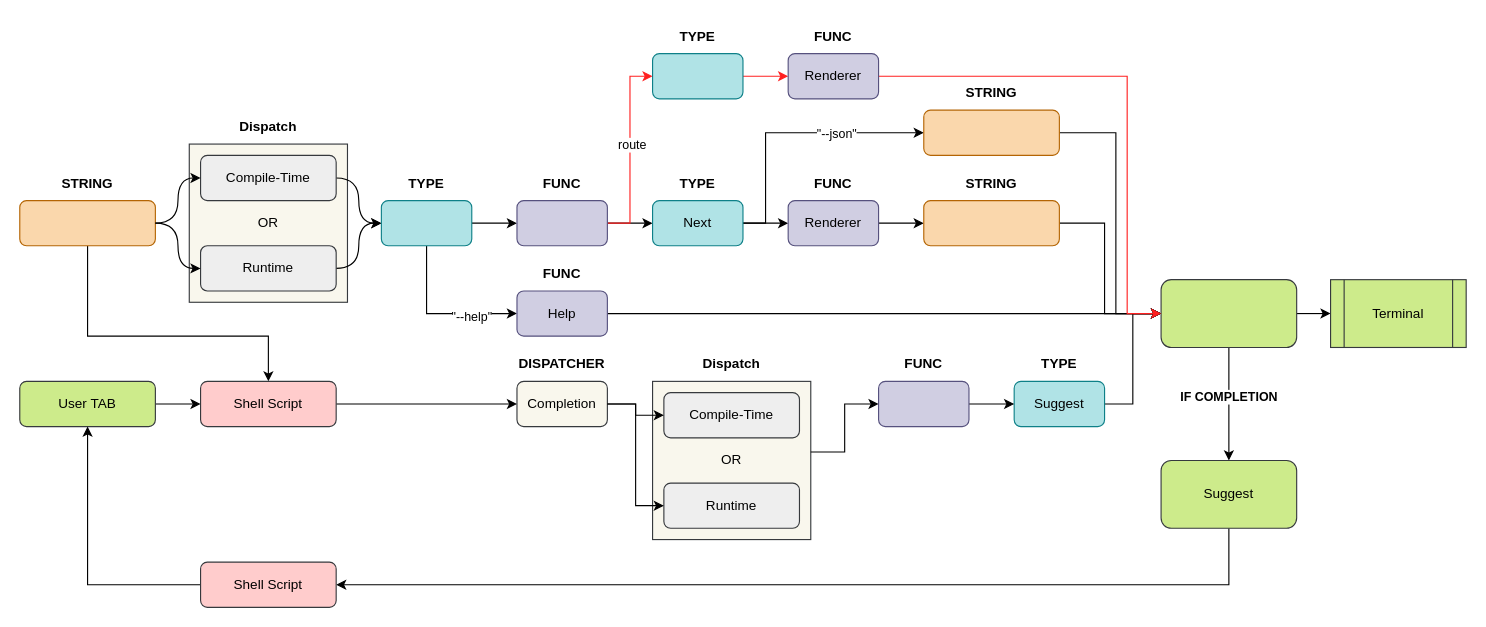
The diagram is 1486 pixels wide and 627 high, and some of its shapes have lost their labels. The shapes that lost their labels are listed below. From the top down, each one's box as (x1, y1, x2, y2) in pixels, then its label:
(651, 53, 743, 99): Error
(923, 109, 1059, 155): JSON
(19, 199, 155, 246): User Input
(380, 199, 472, 246): Entry
(516, 199, 607, 246): Chain
(923, 199, 1059, 246): RenderResult
(1160, 279, 1297, 347): STDOUT
(877, 380, 969, 427): Comp Func
